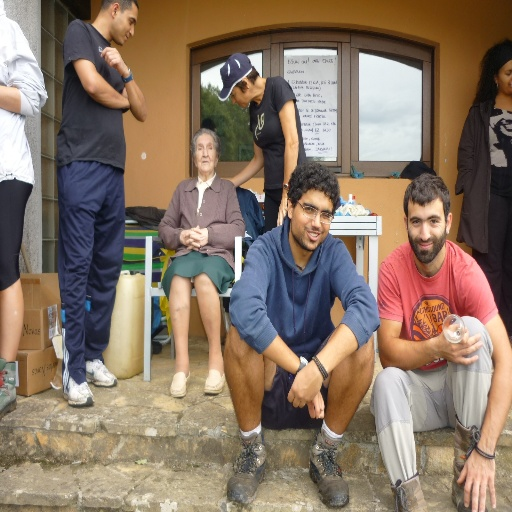hand: (460, 423, 501, 504), (436, 320, 483, 368), (285, 361, 323, 410), (98, 46, 128, 77), (180, 226, 206, 253), (304, 389, 325, 421), (180, 225, 201, 252), (274, 195, 288, 227), (219, 177, 234, 189), (120, 87, 128, 101)
